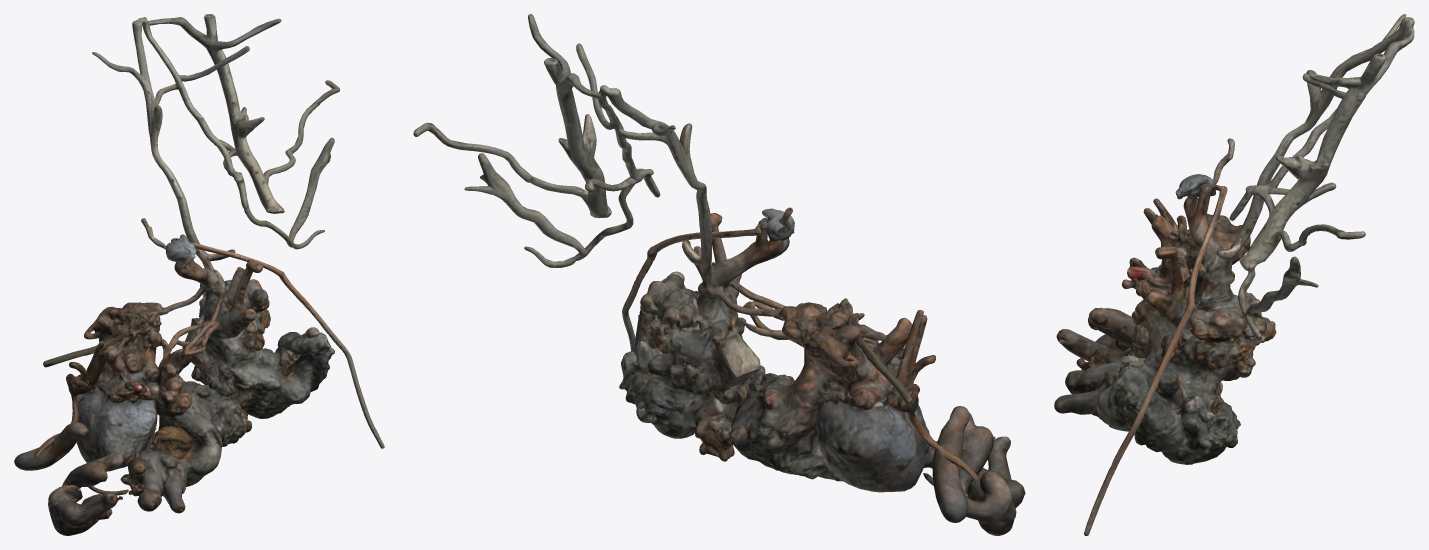
The model's file is dead-snag-v13.glb.
3 renders of one model, left to right at view 1: azimuth 30°, elevation 25°; view 2: azimuth 150°, elevation 25°; view 3: azimuth 270°, elevation 25°, orthographic. The views are drawn at different scales.
Parts seen in each view (by area): view 1: geometry_0; view 2: geometry_0; view 3: geometry_0.
Part boxes in pixels (box(x1,y1,x2,y2)): geometry_0: box(14, 14, 384, 535); geometry_0: box(413, 14, 1025, 535); geometry_0: box(1054, 14, 1414, 535).
Bounding box in the file's own units: 0.9008 × 0.9 × 0.6085.
1 material, 1 textured.
